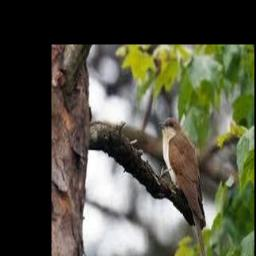Cuckoo: (159, 118, 208, 256)
